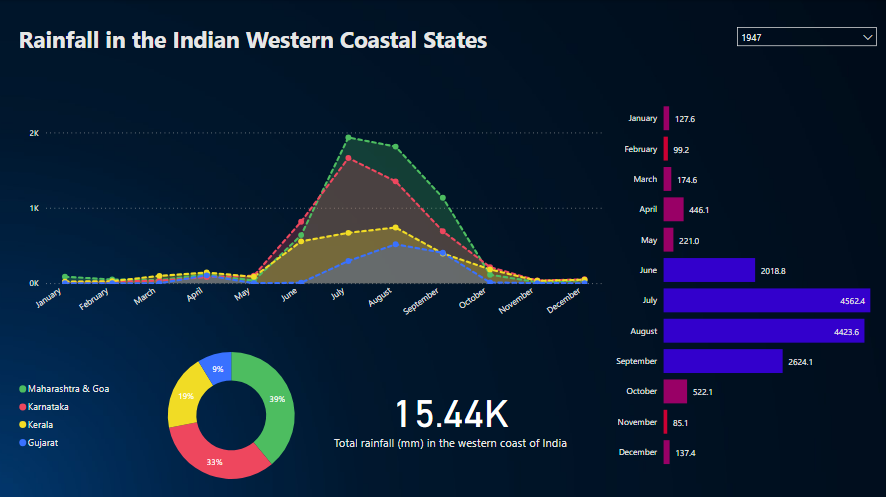

This screenshot's page, from the dashboard's own definition file:
{"tool":"powerbi","page":{"name":"Page 1","canvas":[1280,720],"ordinal":0},"visuals":[{"type":"areaChart","title":"Rainfall in the western coastal states","fields":{"Category":["rainfall (mm).mm-yyyy.Variation.Date Hierarchy.Month"],"Y":["Avg(rainfall (mm).maharashtra)","Avg(rainfall (mm).karnataka)","Avg(rainfall (mm).kerala)","Avg(rainfall (mm).gujarat)"]},"box":[33.6,120.8,838.8,348.9],"z":0},{"type":"slicer","fields":{"Values":["rainfall (mm).mm-yyyy.Variation.Date Hierarchy.Year"]},"box":[1046.8,28.5,218.1,57],"z":1000},{"type":"donutChart","title":"Annual contibution by state","fields":{"Y":["Sum(rainfall (mm).maharashtra)","Sum(rainfall (mm).karnataka)","Sum(rainfall (mm).kerala)","Sum(rainfall (mm).gujarat)"]},"box":[33.6,458,474.8,261.7],"z":2000},{"type":"card","fields":{"Values":["Sum(rainfall (mm).west-coast)"]},"box":[468,526.8,367.4,124.1],"z":3000},{"type":"barChart","fields":{"Category":["rainfall (mm).mm-yyyy.Variation.Date Hierarchy.Month"],"Y":["Avg(rainfall (mm).west-coast)"]},"box":[875.7,120.8,375.8,560.3],"z":4000},{"type":"textbox","box":[33.6,28.5,989.8,80.5],"z":5000}]}

Visuals, with their boxes in screenshot pixels (x1, y1, x2, y2), scaled from the page's 1280x720 canvas onto the 886x497 screenshot:
"Rainfall in the western coastal states" areaChart: (23, 83, 604, 324)
slicer - rainfall (mm).mm-yyyy.Variation.Date Hierarchy.Year: (725, 20, 876, 59)
"Annual contibution by state" donutChart: (23, 316, 352, 496)
card - Sum(rainfall (mm).west-coast): (324, 364, 578, 449)
barChart - rainfall (mm).mm-yyyy.Variation.Date Hierarchy.Month x Avg(rainfall (mm).west-coast): (606, 83, 866, 470)
textbox: (23, 20, 708, 75)
